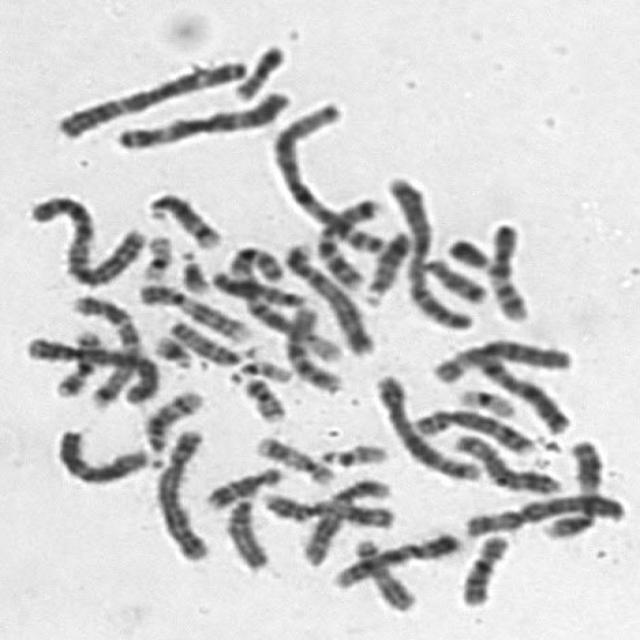A1: (261, 92, 389, 255), (220, 235, 350, 364)
A2: (375, 166, 479, 333), (18, 185, 150, 288)
A3: (46, 49, 252, 141), (105, 80, 296, 151)
B4: (14, 327, 162, 405), (146, 419, 213, 564)
B5: (364, 365, 486, 482), (273, 235, 377, 357)
C10: (277, 296, 345, 394), (450, 525, 513, 609)
C11: (534, 428, 607, 541), (251, 483, 397, 529)
C12: (291, 469, 394, 568), (46, 420, 158, 487)
C6: (453, 485, 629, 540), (423, 331, 576, 386)
C7: (63, 286, 151, 407), (307, 188, 388, 290)
C8: (443, 425, 565, 497), (402, 398, 540, 457)
C9: (323, 522, 464, 592), (128, 274, 254, 344)
D13: (354, 223, 418, 307), (203, 262, 311, 308)
D14: (138, 184, 225, 251), (135, 381, 208, 456)
D15: (161, 311, 261, 367), (217, 487, 272, 571)
E16: (479, 217, 534, 325), (46, 320, 106, 400)
E17: (244, 427, 338, 487), (351, 539, 415, 612)
E18: (195, 457, 288, 511), (415, 248, 490, 304)
F19: (446, 379, 520, 418), (131, 225, 175, 283)
F20: (223, 34, 290, 102), (231, 368, 289, 423)
G21: (168, 242, 213, 295), (143, 325, 195, 370)
G22: (308, 434, 392, 468), (220, 351, 294, 385)
X: (464, 337, 576, 435)
Y: (438, 228, 494, 272)
